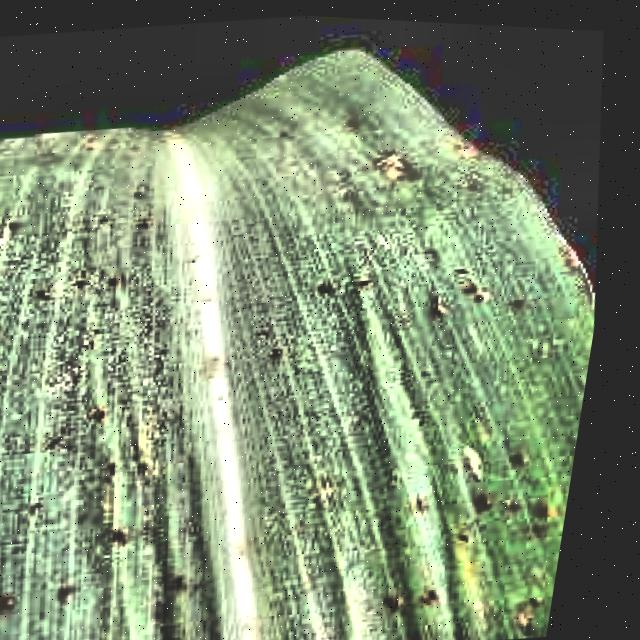common_rust: (0, 67, 630, 640)
